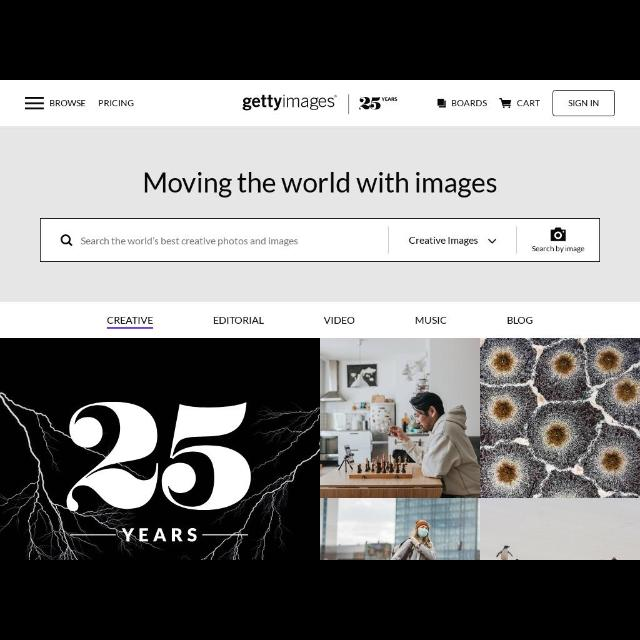icon: (24, 96, 44, 110), (550, 228, 566, 242), (59, 235, 72, 247), (500, 98, 512, 109), (438, 99, 447, 108), (488, 238, 496, 244)
image: (1, 339, 638, 559), (242, 95, 338, 111), (358, 96, 398, 110)
input: (39, 219, 388, 261)
multitab: (107, 316, 535, 324)
spinner: (409, 236, 496, 246)
text: (144, 171, 496, 199), (82, 237, 298, 247), (408, 237, 478, 247), (213, 317, 265, 325), (532, 245, 584, 252), (108, 317, 152, 325), (452, 99, 488, 107), (568, 99, 600, 107), (324, 317, 354, 325), (416, 316, 446, 324), (50, 100, 86, 106), (98, 100, 134, 106), (507, 317, 533, 325), (517, 99, 541, 107)
textbutton: (552, 90, 616, 118)
